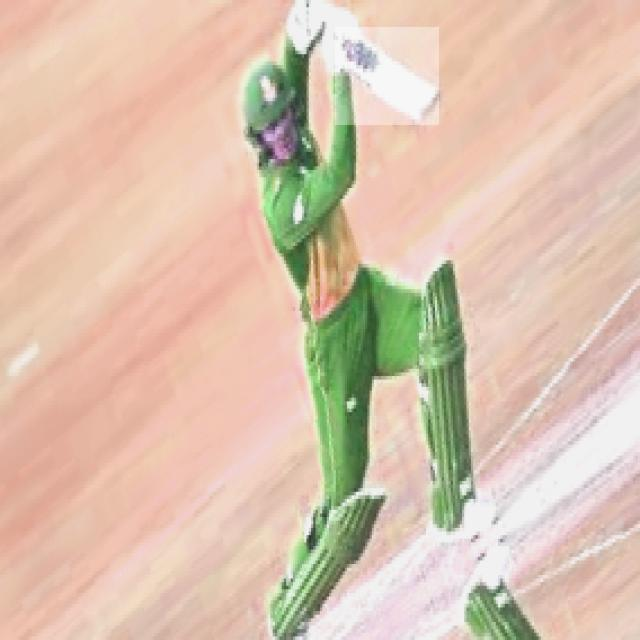bat: (322, 25, 442, 126)
toe: (413, 91, 440, 123)
